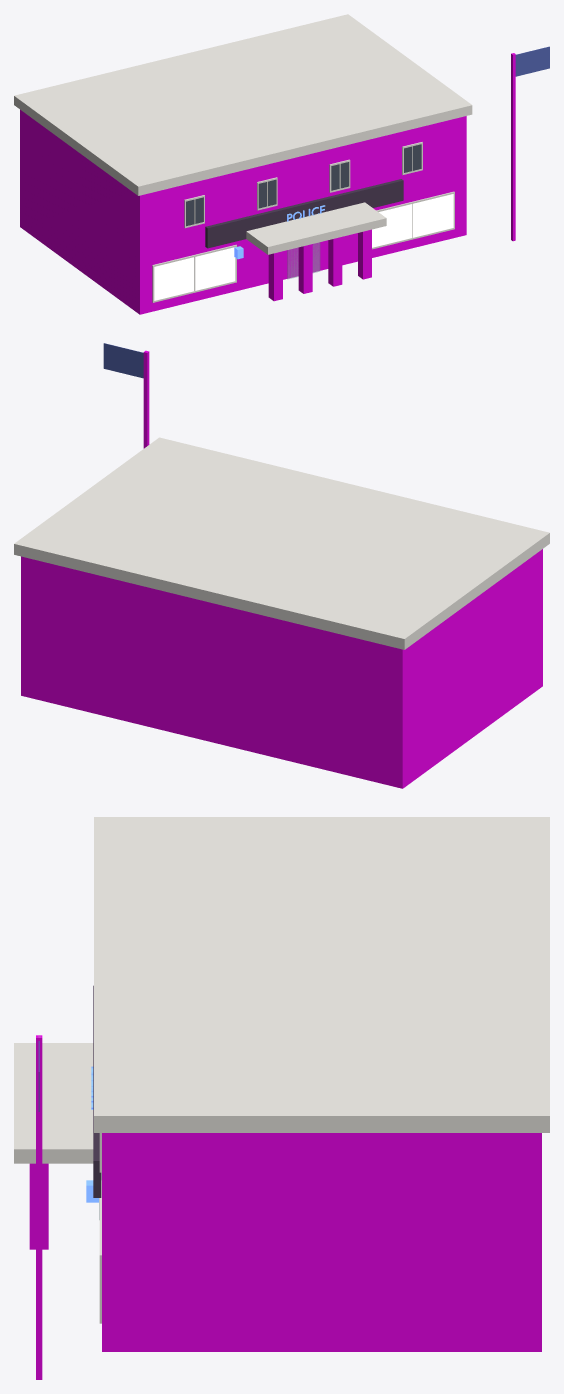
File: police_station.glb
3 views of the same model, one above another, from view 1: azimuth 30°, elevation 25°; view 2: azimuth 150°, elevation 25°; view 3: azimuth 270°, elevation 25° (orthographic). The views are drawn at different scales.
Parts seen in each view (by area): view 1: Cornice, COL_Walls, Store_Windows, Portico, Sign_Board, Upper_Windows, Store_Windows_Frames, Upper_Windows_Frames, COL_Flagpole, Flag, COL_Column_1, COL_Column_-1 (+3 smaller); view 2: COL_Walls, Cornice, Flag, COL_Flagpole; view 3: Cornice, COL_Walls, Portico, COL_Flagpole, COL_Column_3.
Boxes of the visible parts, left/top/right/bottom form: Cornice: left=14, top=14, right=472, bottom=195; COL_Walls: left=20, top=109, right=466, bottom=314; Store_Windows: left=154, top=194, right=453, bottom=300; Portico: left=246, top=202, right=386, bottom=254; Sign_Board: left=205, top=179, right=403, bottom=248; Upper_Windows: left=186, top=144, right=421, bottom=226; Store_Windows_Frames: left=152, top=191, right=454, bottom=302; Upper_Windows_Frames: left=184, top=142, right=422, bottom=228; COL_Flagpole: left=511, top=53, right=515, bottom=241; Flag: left=515, top=46, right=549, bottom=76; COL_Column_1: left=328, top=237, right=342, bottom=286; COL_Column_-1: left=298, top=244, right=312, bottom=293; COL_Walls: left=21, top=549, right=542, bottom=788; Cornice: left=14, top=437, right=549, bottom=649; Flag: left=103, top=343, right=143, bottom=378; COL_Flagpole: left=143, top=350, right=149, bottom=448; Cornice: left=94, top=817, right=549, bottom=1132; COL_Walls: left=102, top=1133, right=541, bottom=1351; Portico: left=14, top=1043, right=93, bottom=1163; COL_Flagpole: left=36, top=1035, right=42, bottom=1379; COL_Column_3: left=29, top=1163, right=48, bottom=1249.
Bounding box in the file's own units: 26.7 × 12 × 17.05.
